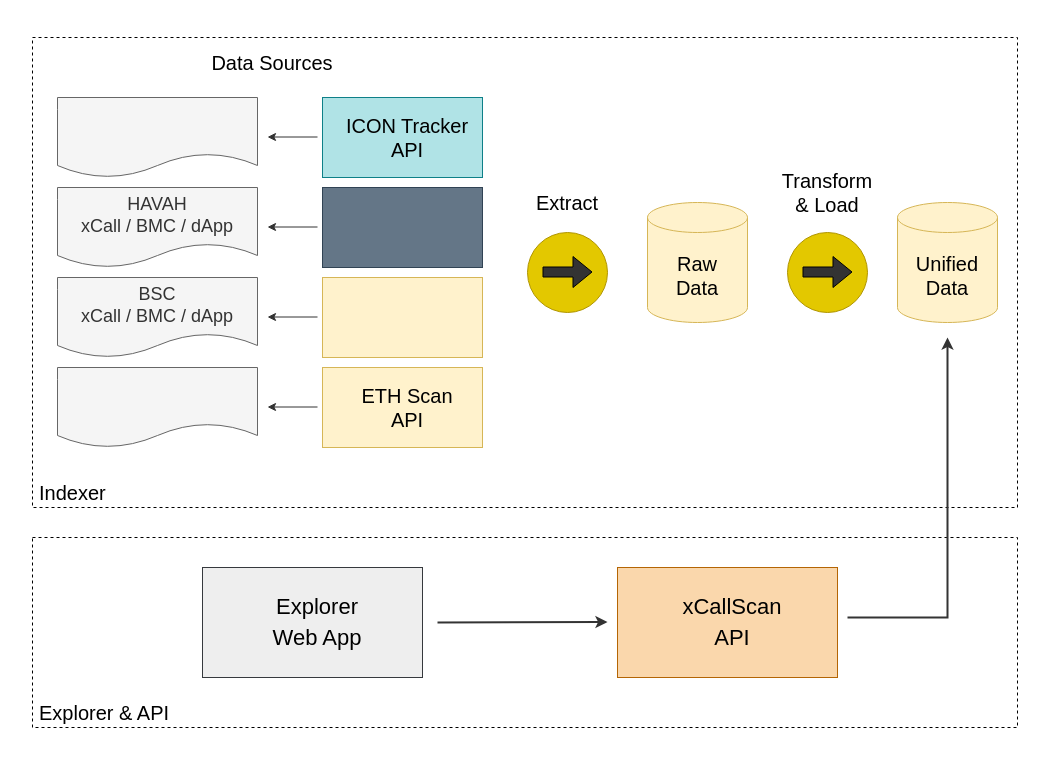
Image size: 1054x764. Some labels were removed from this diagram. The shapes that lost their labels are listed below. From the top down, each one's box as (x1, y1, x2, y2) in pixels, then its label:
(56, 96, 258, 178): ICON xCall / BMC / dApp
(322, 186, 482, 268): Havah Scan API
(322, 276, 482, 358): BSC Scan API
(56, 366, 258, 448): ETH xCall / BMC / dApp
